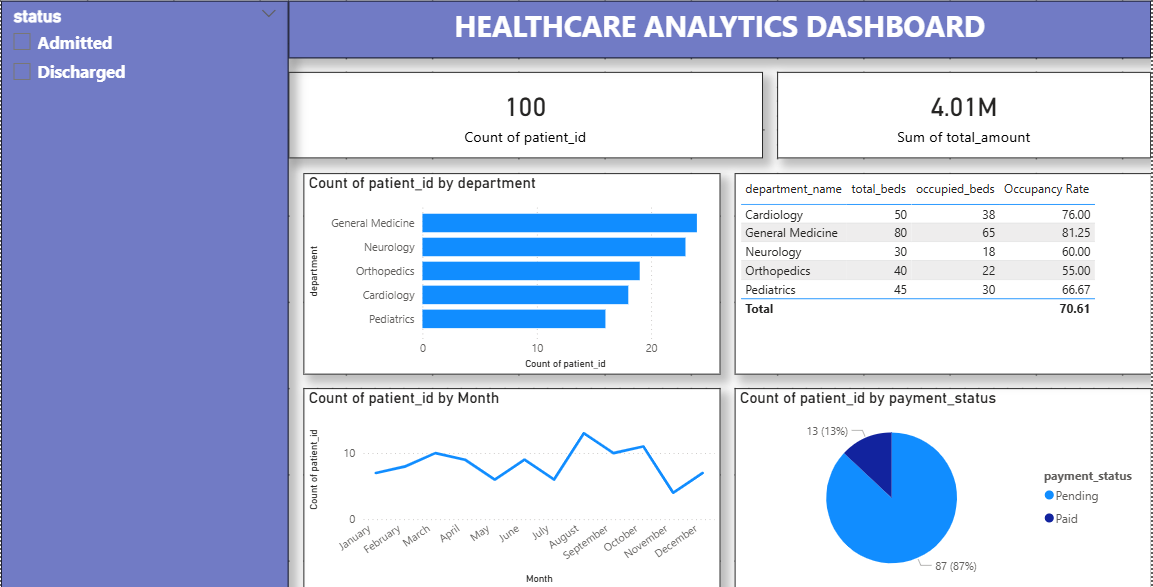

Layout of this report page (visuals, bound fields, positions):
{"tool":"powerbi","page":{"name":"Page 1","canvas":[1280,720],"ordinal":0},"visuals":[{"type":"card","fields":{"Values":["CountNonNull(Patient csv.patient_id)"]},"box":[320,128,528,96],"z":0},{"type":"card","fields":{"Values":["Sum(billing csv.total_amount)"]},"box":[864,128,416,96],"z":1000},{"type":"clusteredBarChart","fields":{"Y":["CountNonNull(Patient csv.patient_id)"],"Category":["Patient csv.department"]},"box":[336,240,464,224],"z":2000},{"type":"lineChart","fields":{"Category":["Patient csv.admission_date.Variation.Date Hierarchy.Month"],"Y":["CountNonNull(Patient csv.patient_id)"]},"box":[336,480,464,224],"z":3000},{"type":"pieChart","fields":{"Category":["billing csv.payment_status"],"Y":["CountNonNull(billing csv.patient_id)"]},"box":[816,480,464,224],"z":4000},{"type":"slicer","fields":{"Values":["Patient csv.status"]},"box":[0,48,320,672],"z":5000},{"type":"tableEx","fields":{"Values":["department csv.department_name","department csv.total_beds","department csv.occupied_beds","Patient csv.Occupancy Rate"]},"box":[816,240,464,224],"z":6000},{"type":"textbox","box":[320,48,960,64],"z":6001}]}

Visuals, with their boxes on the page's 1280x720 design canvas (x1, y1, x2, y2). These are canvas units, not pixel positions in the 1153x587 screenshot, which may show the page scaled, cropped or inside an application window:
card - CountNonNull(Patient csv.patient_id): pyautogui.locateOnScreen(320, 128, 848, 224)
card - Sum(billing csv.total_amount): pyautogui.locateOnScreen(864, 128, 1280, 224)
clusteredBarChart - CountNonNull(Patient csv.patient_id) x Patient csv.department: pyautogui.locateOnScreen(336, 240, 800, 464)
lineChart - Patient csv.admission_date.Variation.Date Hierarchy.Month x CountNonNull(Patient csv.patient_id): pyautogui.locateOnScreen(336, 480, 800, 704)
pieChart - billing csv.payment_status x CountNonNull(billing csv.patient_id): pyautogui.locateOnScreen(816, 480, 1280, 704)
slicer - Patient csv.status: pyautogui.locateOnScreen(0, 48, 320, 720)
tableEx - department csv.department_name x department csv.total_beds: pyautogui.locateOnScreen(816, 240, 1280, 464)
textbox: pyautogui.locateOnScreen(320, 48, 1280, 112)
